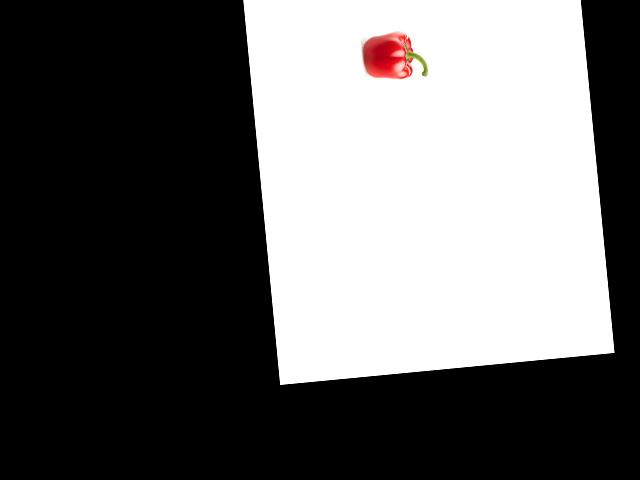bell_pepper: (361, 30, 429, 83)
